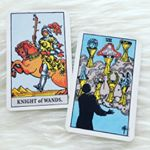other: (64, 31, 141, 145)
